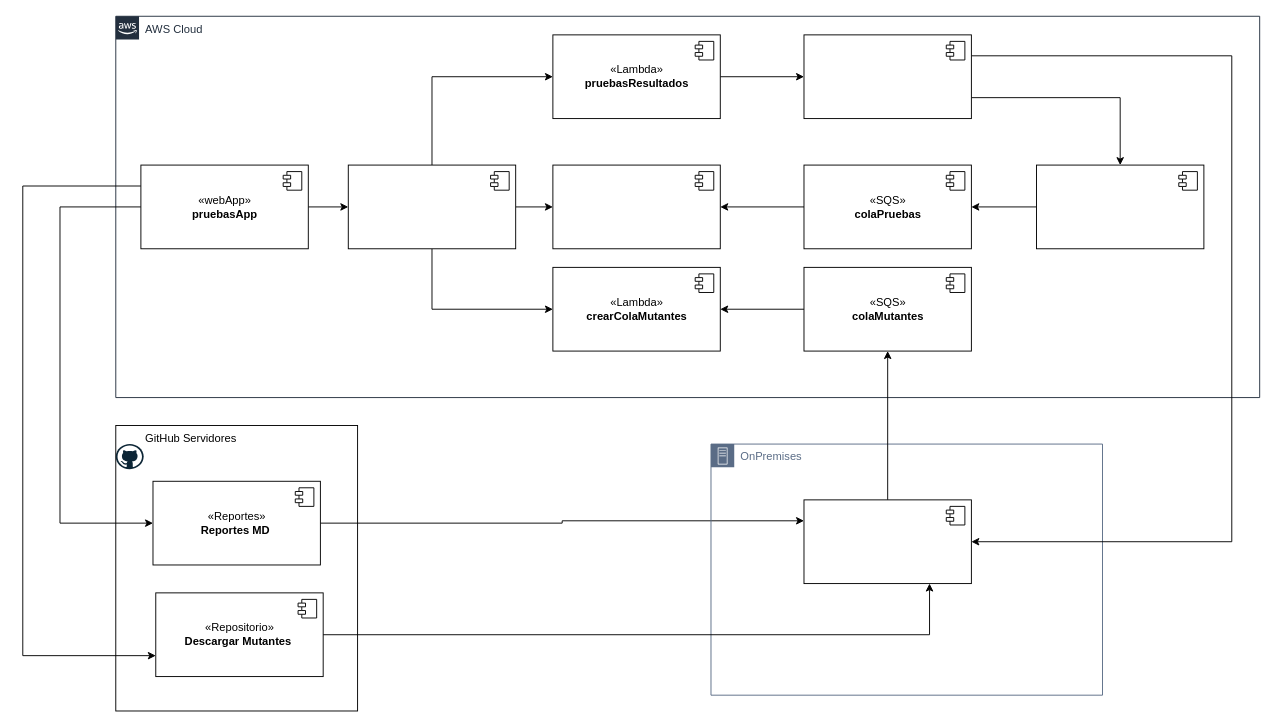
Image size: 1276x727. Some labels were removed from this diagram. Here are the shapes that lost their labels. From the top down, the centre of each, then its label:
(887,76): «MySql» mydb
(431,206): «ApiGateway» ApiPruebasApp
(636,206): «Lambda» crearColaPrubas
(1120,206): «Worker» Pruebas
(887,541): «Worker» WorkerMutantes
